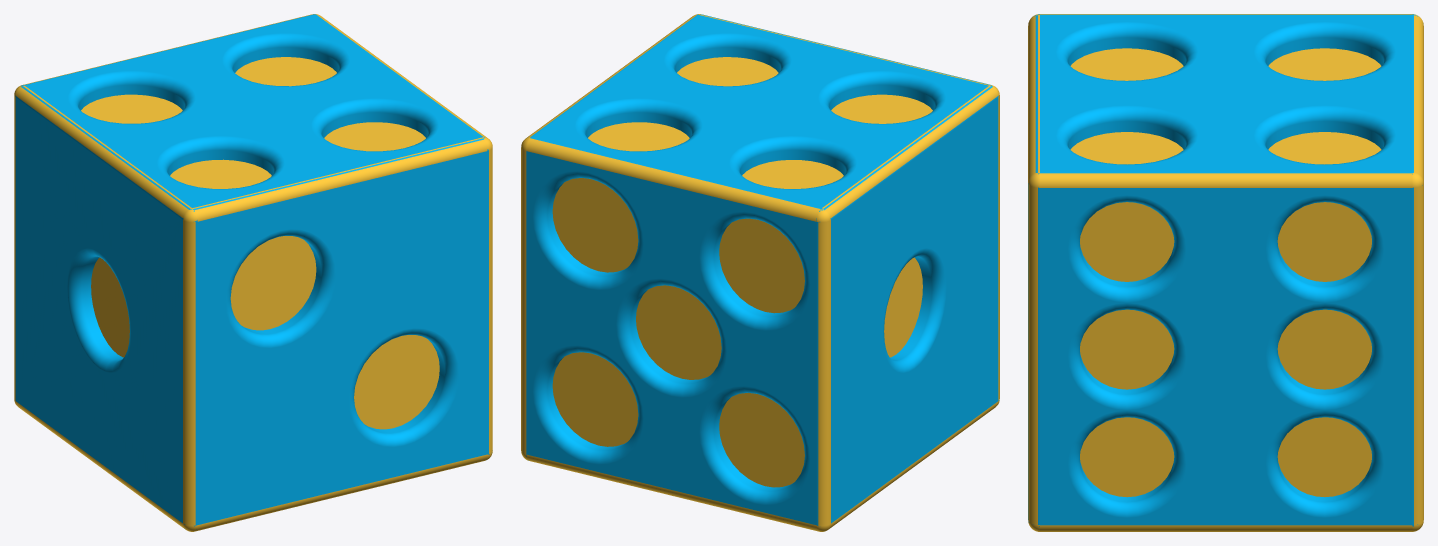
File: Dice 1.fbx
3 views of the same model, side by side, from view 1: azimuth 30°, elevation 25°; view 2: azimuth 150°, elevation 25°; view 3: azimuth 270°, elevation 25° (orthographic). The views are drawn at different scales.
Visible parts, largest first — view 1: Body1; view 2: Body1; view 3: Body1.
Part boxes in pixels (x1,y1,x2,y2): Body1: [14, 14, 492, 531]; Body1: [521, 14, 999, 531]; Body1: [1028, 14, 1423, 531].
Size of the model in its own units: 5000 by 5000 by 5000.
